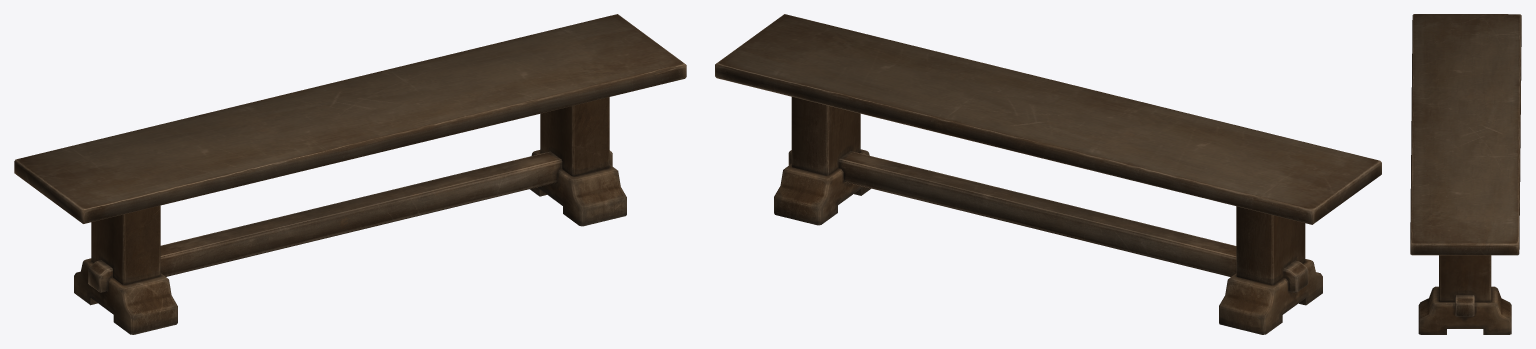
File: WoodBench.fbx
3 renders of one model, left to right at view 1: azimuth 30°, elevation 25°; view 2: azimuth 150°, elevation 25°; view 3: azimuth 270°, elevation 25°, orthographic. The views are drawn at different scales.
Visible parts, largest first — view 1: WoodBench; view 2: WoodBench; view 3: WoodBench.
Part boxes in pixels (x1=…): WoodBench: x1=14, y1=14, x2=686, y2=334; WoodBench: x1=715, y1=14, x2=1381, y2=334; WoodBench: x1=1410, y1=14, x2=1521, y2=334.
Size of the model in its own units: 400 by 90 by 81.66.
